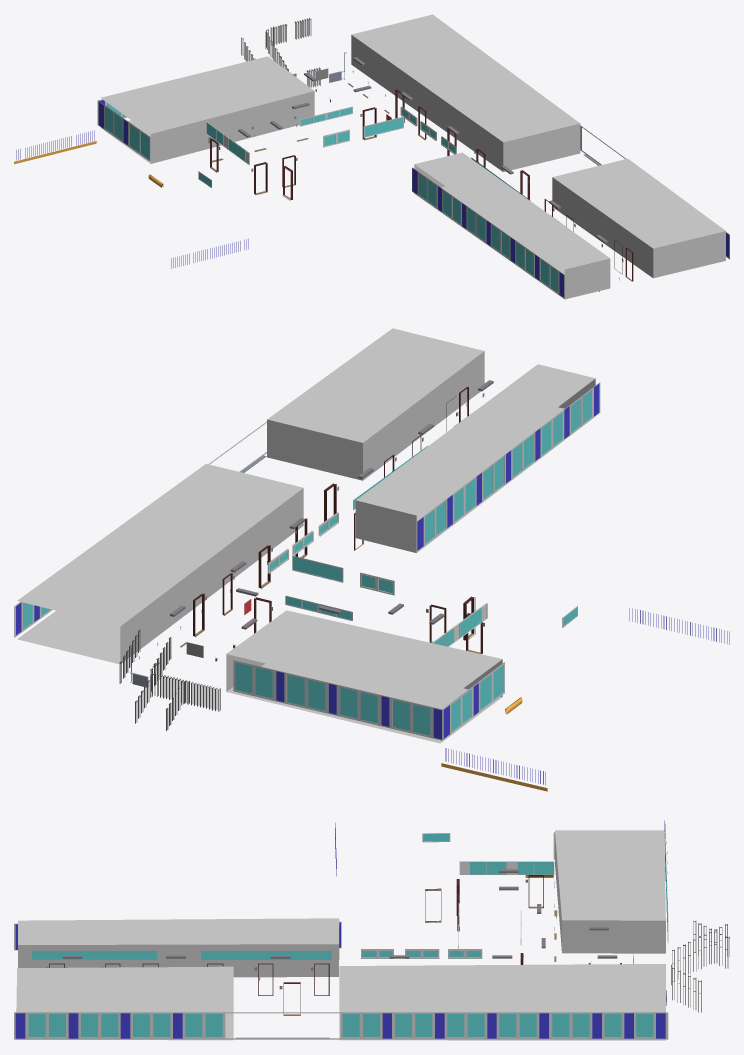
3 renders of one model, top to bottom at view 1: azimuth 30°, elevation 25°; view 2: azimuth 150°, elevation 25°; view 3: azimuth 270°, elevation 25°, orthographic. The views are drawn at different scales.
Parts seen in each view (by area): view 1: stena039.723, stena039.726, stena039.724, stena039.725, stena039.005, stena039.157, stena039.090, stena039.703, stena039.600, stena039.177, stena039.182; view 2: stena039.723, stena039.724, stena039.726, stena039.725, stena039.155, stena039.005, stena039.090, stena039.157, stena039.703, stena039.600, stena039.147, stena039.177 (+1 smaller); view 3: stena039.723, stena039.147, stena039.725, stena039.726, stena039.724, stena039.434, stena039.090, stena039.177, stena039.600, stena039.187.
Boxes of the visible parts, x1,y1,x2,y2 form: stena039.723: (351, 14, 580, 171); stena039.726: (100, 56, 314, 163); stena039.724: (552, 158, 725, 278); stena039.725: (414, 152, 610, 299); stena039.005: (412, 167, 564, 298); stena039.157: (97, 100, 150, 161); stena039.090: (241, 18, 320, 87); stena039.703: (16, 130, 248, 268); stena039.600: (238, 57, 607, 243); stena039.177: (206, 122, 249, 165); stena039.182: (363, 116, 403, 137); stena039.723: (17, 464, 303, 664); stena039.724: (267, 328, 484, 480); stena039.726: (226, 610, 502, 743); stena039.725: (355, 364, 595, 553); stena039.155: (233, 660, 442, 740); stena039.005: (417, 382, 600, 551); stena039.090: (119, 629, 220, 730); stena039.157: (442, 662, 504, 740); stena039.703: (445, 608, 729, 784); stena039.600: (170, 380, 493, 629); stena039.147: (14, 421, 266, 637); stena039.177: (432, 603, 487, 646); stena039.723: (339, 964, 665, 1040); stena039.147: (14, 1012, 668, 1039); stena039.725: (18, 918, 339, 977); stena039.726: (555, 830, 665, 953); stena039.724: (16, 966, 233, 1040); stena039.434: (32, 951, 331, 959); stena039.090: (671, 922, 729, 1012); stena039.177: (459, 861, 554, 874); stena039.600: (62, 869, 617, 958); stena039.187: (361, 949, 439, 958).
Bounding box in the file's own units: 3062 × 498 × 4104.
